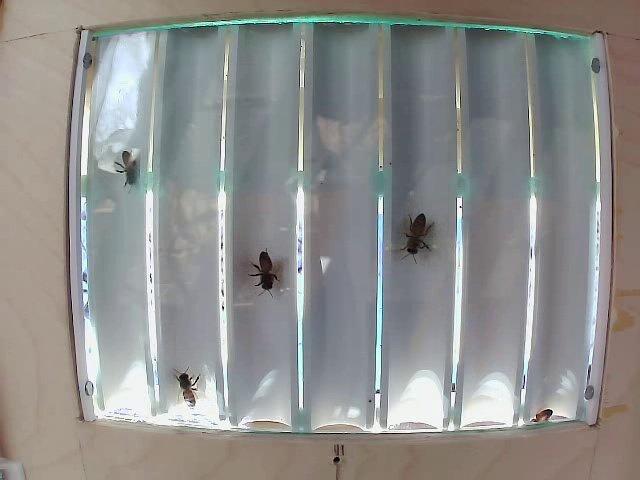bee: (239, 242, 303, 291), (395, 206, 439, 255), (172, 359, 207, 418), (106, 149, 156, 180)
